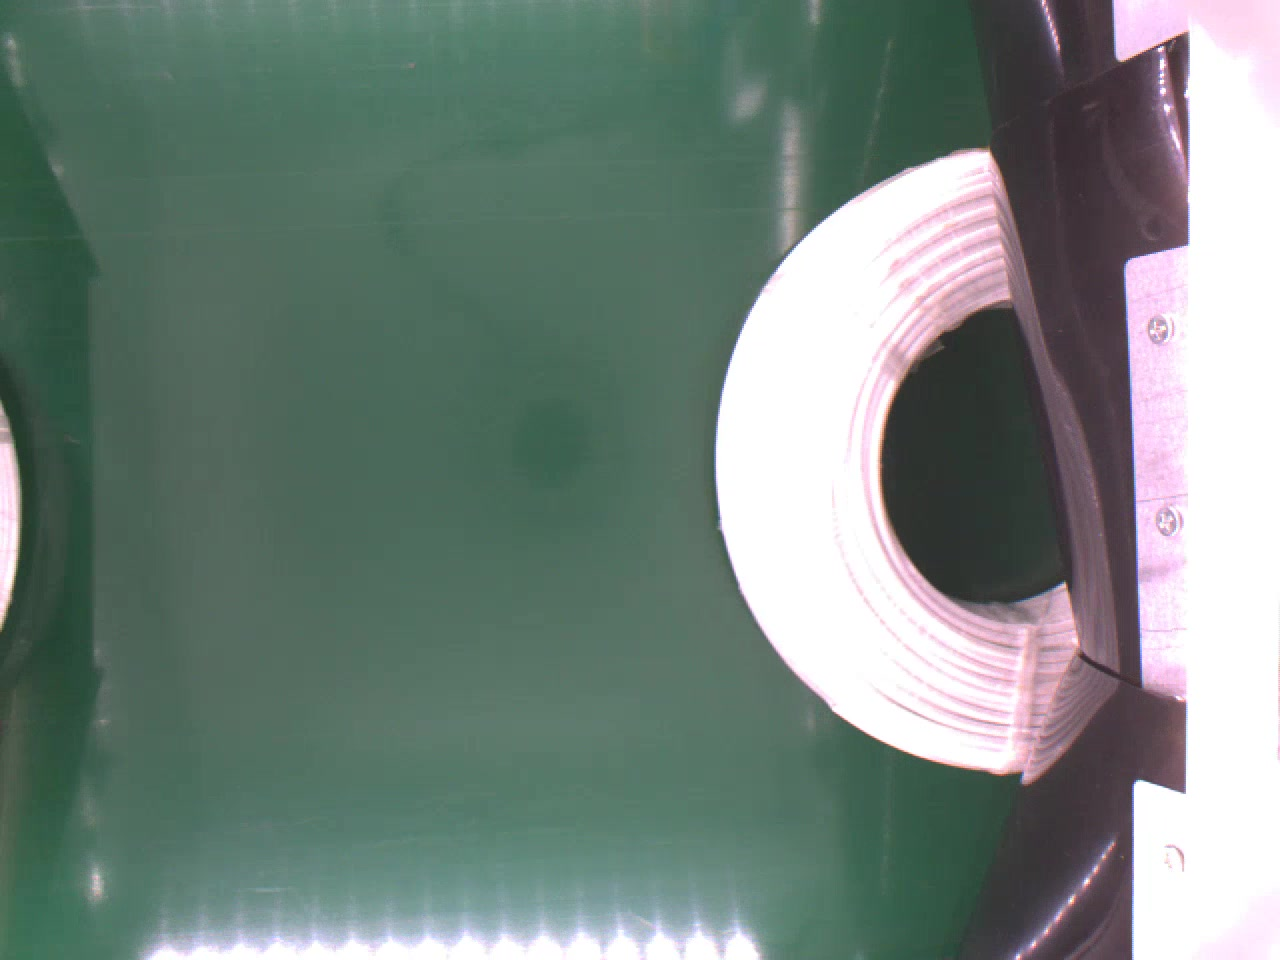white: (703, 146, 1069, 776)
